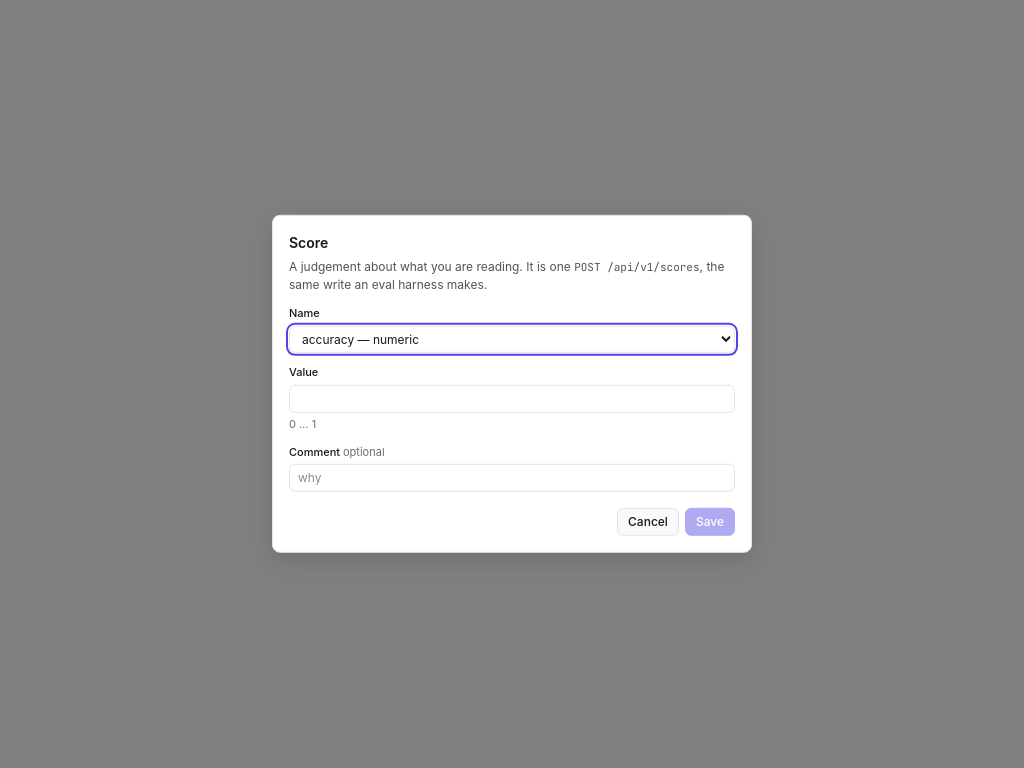
Test: the name the control comes from › asks the free-name path for a type before it asks for a value
Select "other…" in the dropdown labelled "Name" at (512, 339), box [289, 325, 735, 352]
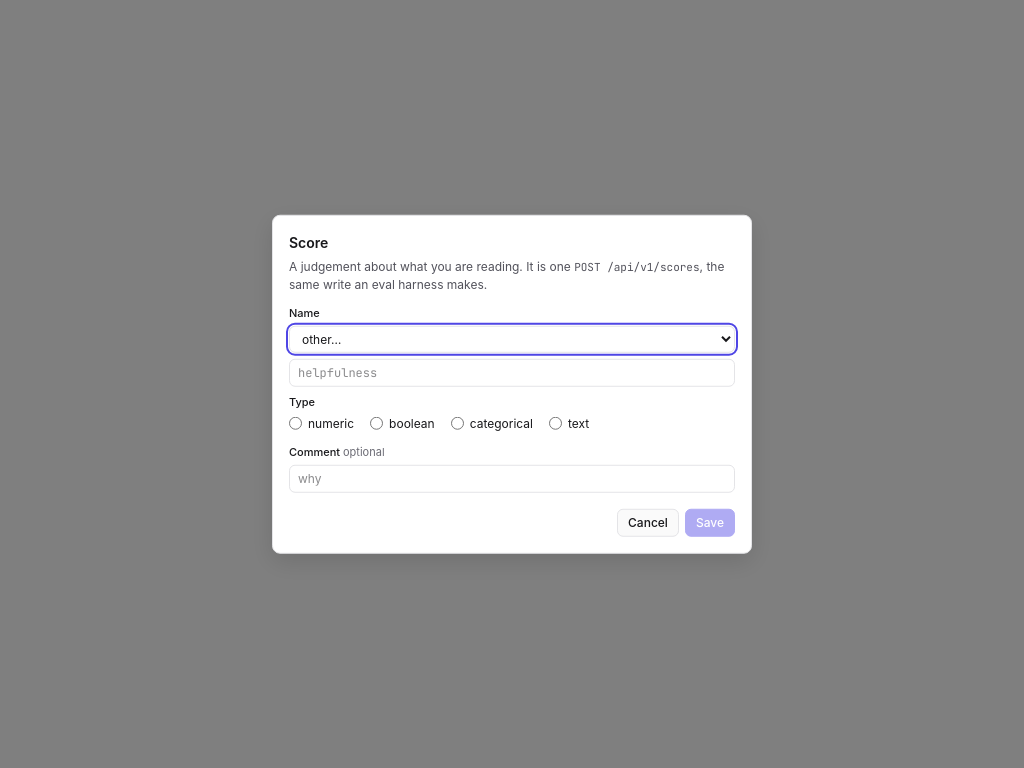
Type "vibes" into the field named "Score name".
click(512, 372); type("vibes")  # box [289, 358, 735, 386]
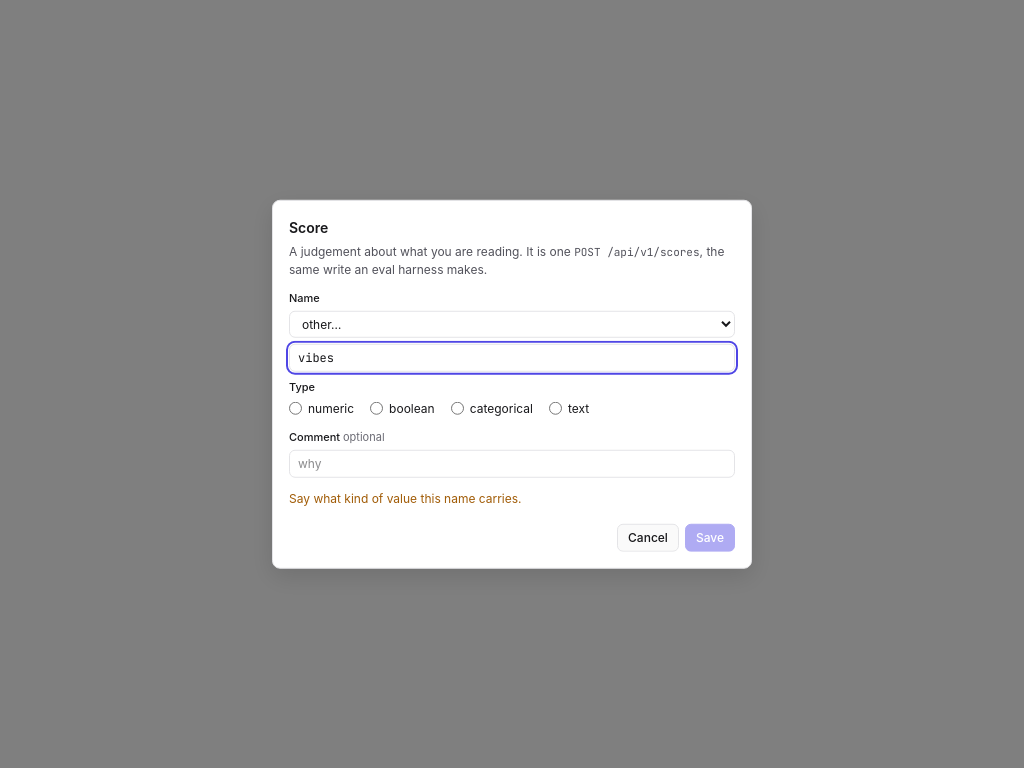
Expected: the button "Save" is disabled, [685, 523, 735, 551]
Result: the text "Say what kind of value this name carries." is shown at [289, 490, 522, 505]
Click the radio button labelled "boolean".
click(377, 408)  # box [370, 402, 383, 415]
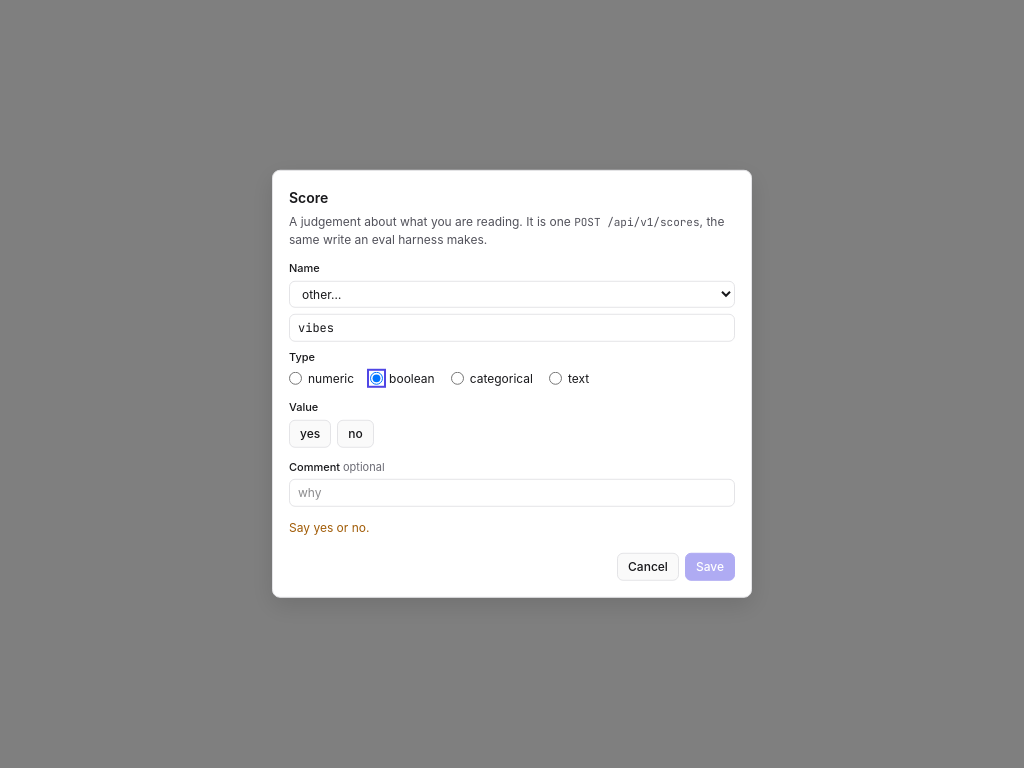
Click the button "yes".
click(310, 433)  # box [289, 419, 331, 447]
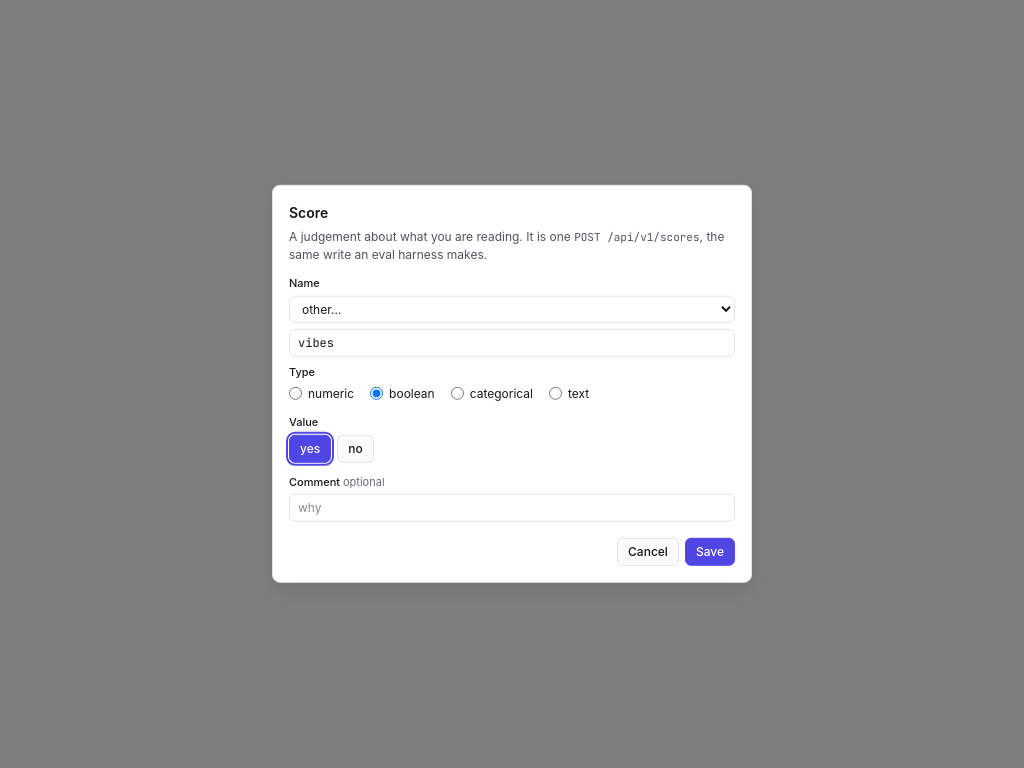
Result: the button "Save" is enabled at [685, 538, 735, 566]
